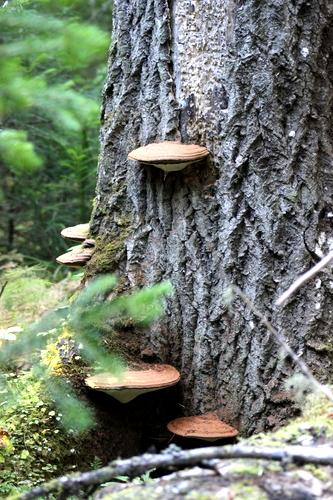Ganoderma - Fruit Body: (84, 356, 180, 407), (128, 140, 208, 170), (165, 415, 238, 446), (56, 244, 98, 265), (61, 219, 94, 240)
